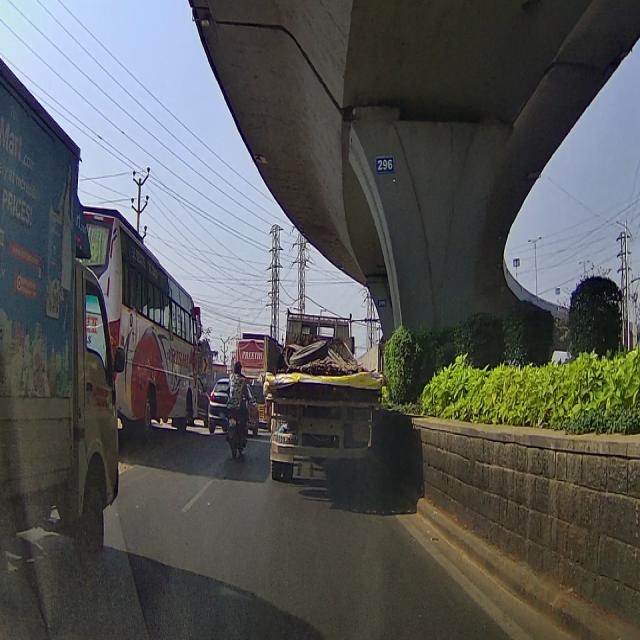right-hand-curve: (203, 356, 208, 374)
